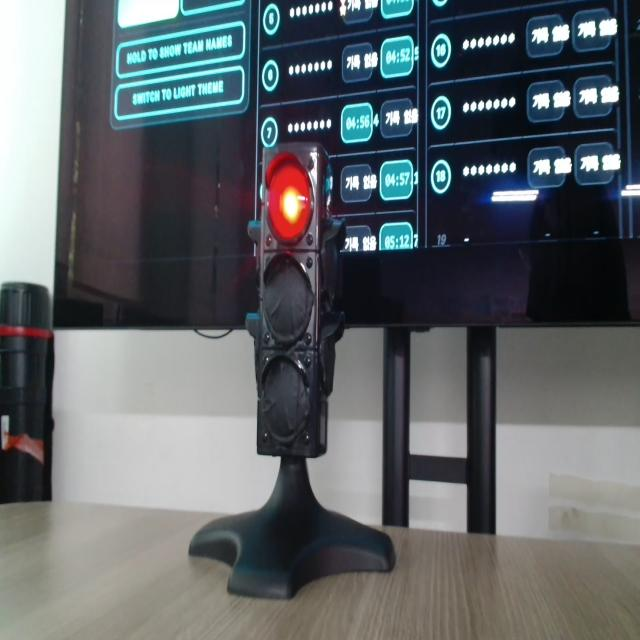red_light: (267, 155, 312, 242)
